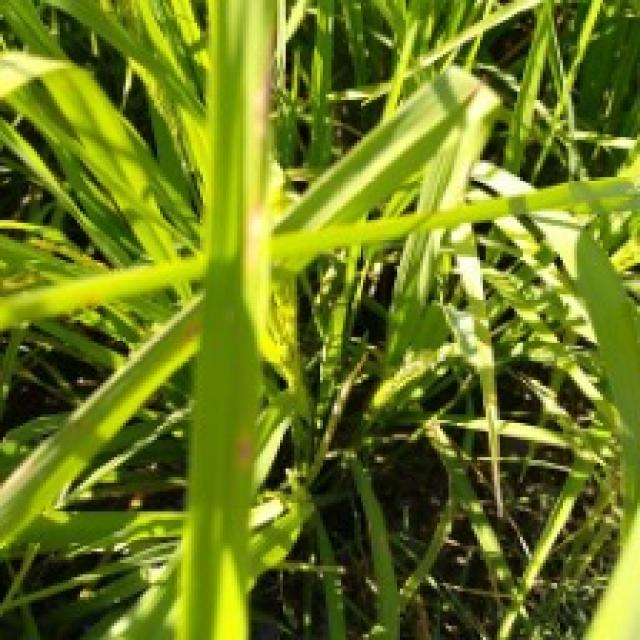Unhealthy: (251, 26, 274, 136), (244, 201, 265, 289), (237, 425, 255, 474), (186, 321, 203, 341)
